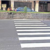zebra: (13, 19, 50, 48)
